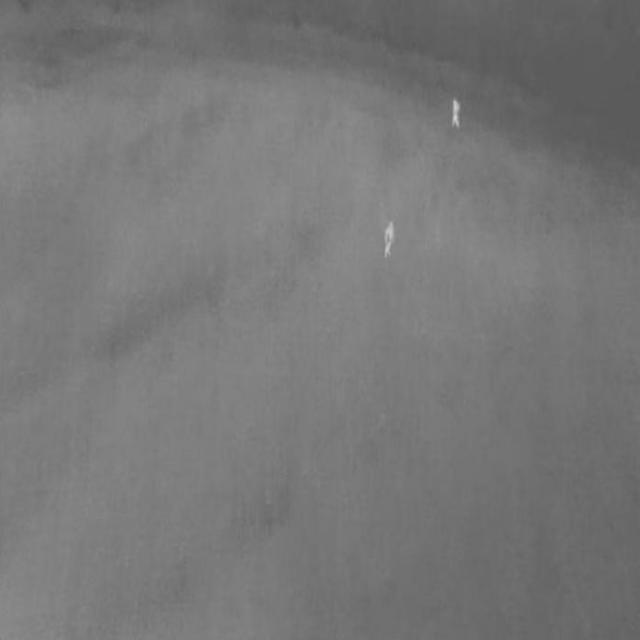person: (385, 222, 396, 260), (451, 100, 461, 131)
